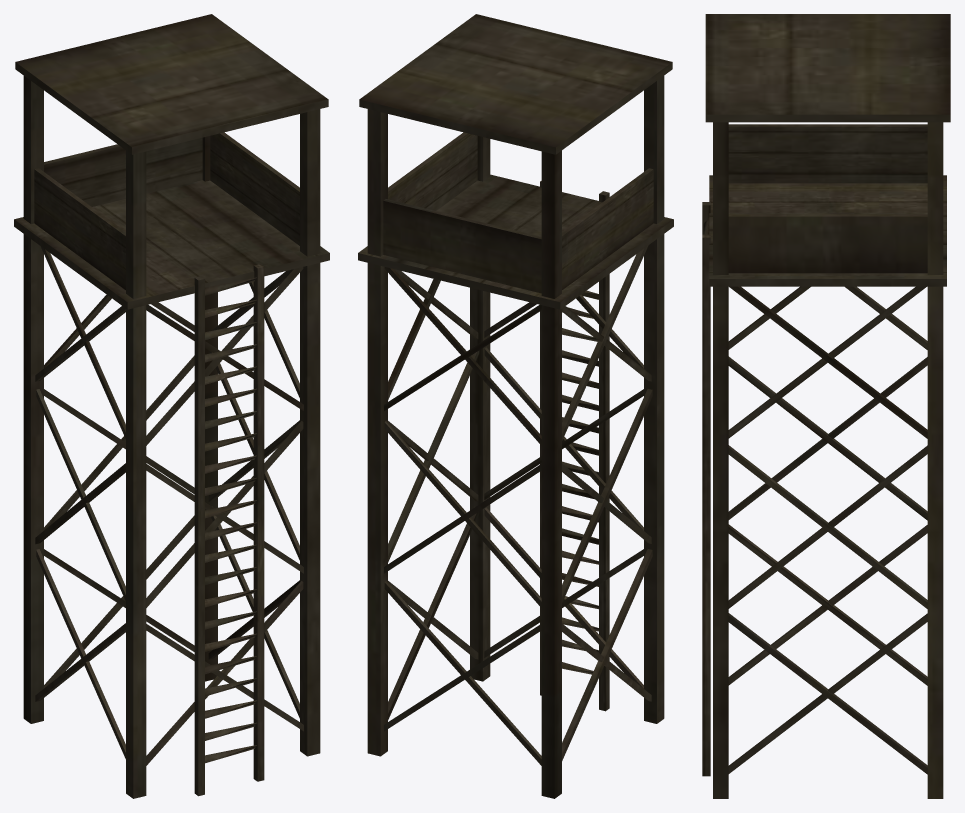
3 views of the same model, side by side, from view 1: azimuth 30°, elevation 25°; view 2: azimuth 150°, elevation 25°; view 3: azimuth 270°, elevation 25° (orthographic). The views are drawn at different scales.
Visible parts, largest first — view 1: outpost; view 2: outpost; view 3: outpost.
Part boxes in pixels (x1=…): outpost: x1=14, y1=14, x2=329, y2=798; outpost: x1=358, y1=14, x2=673, y2=798; outpost: x1=702, y1=14, x2=950, y2=798.
Size of the model in its own units: 2.55 by 8 by 2.59.
1 material, 1 textured.
